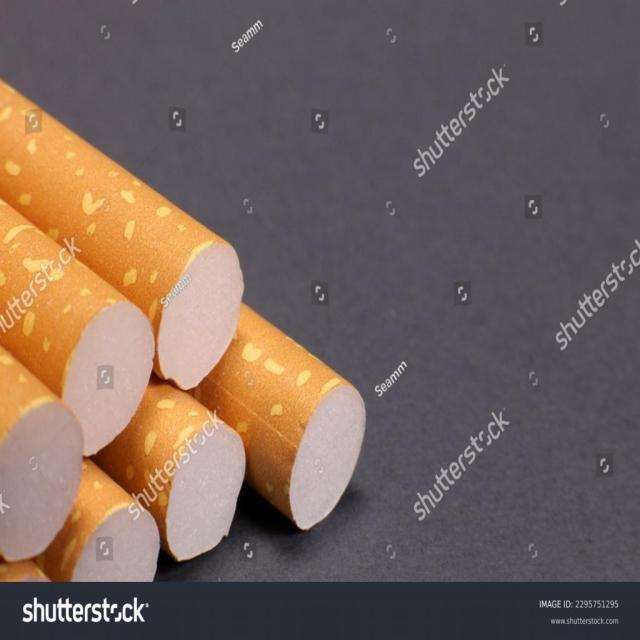smoking: (0, 0, 582, 365)
